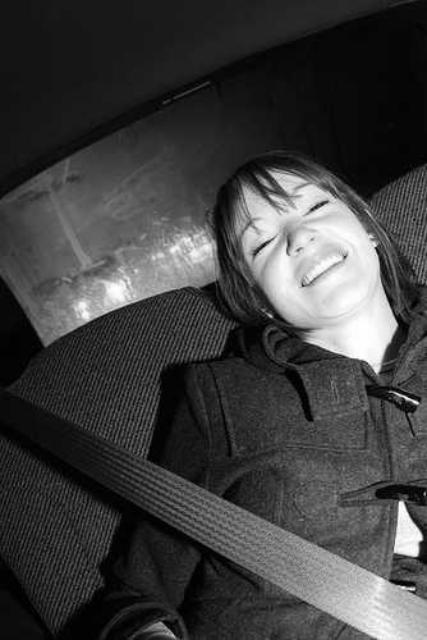Seatbelt: (0, 388, 427, 640)
